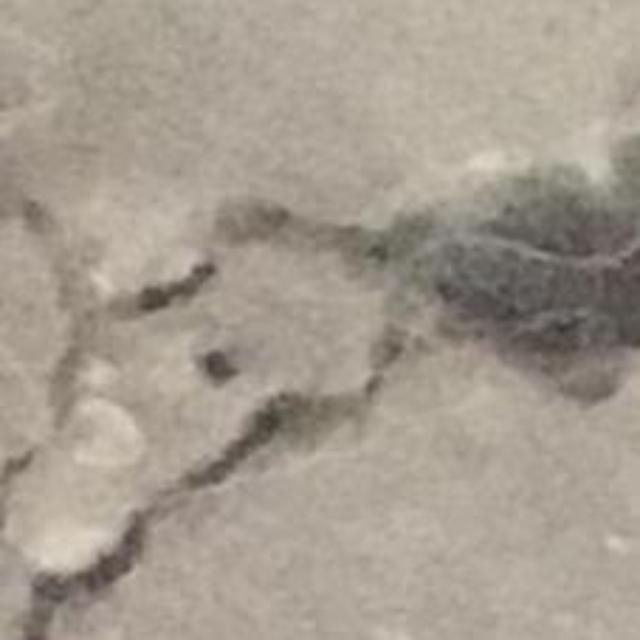crack: (26, 167, 639, 639)
